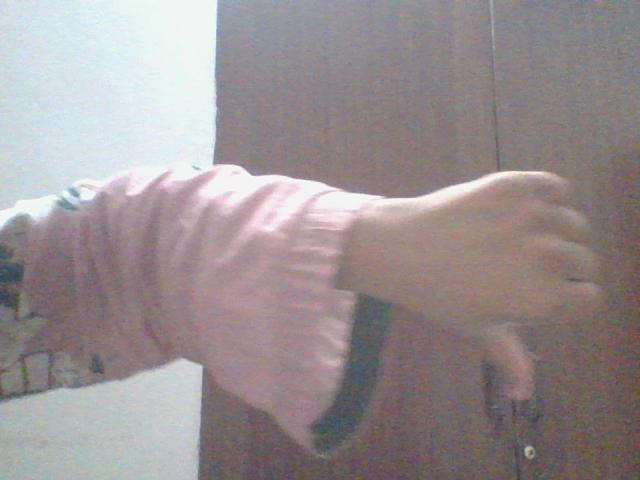thumbs-down: (432, 164, 609, 413)
